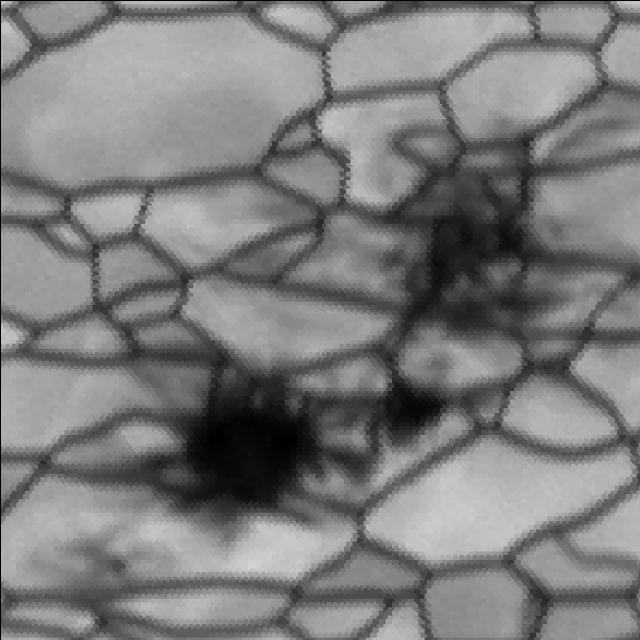good_void: (136, 338, 454, 545), (365, 99, 594, 350), (15, 523, 156, 607)
